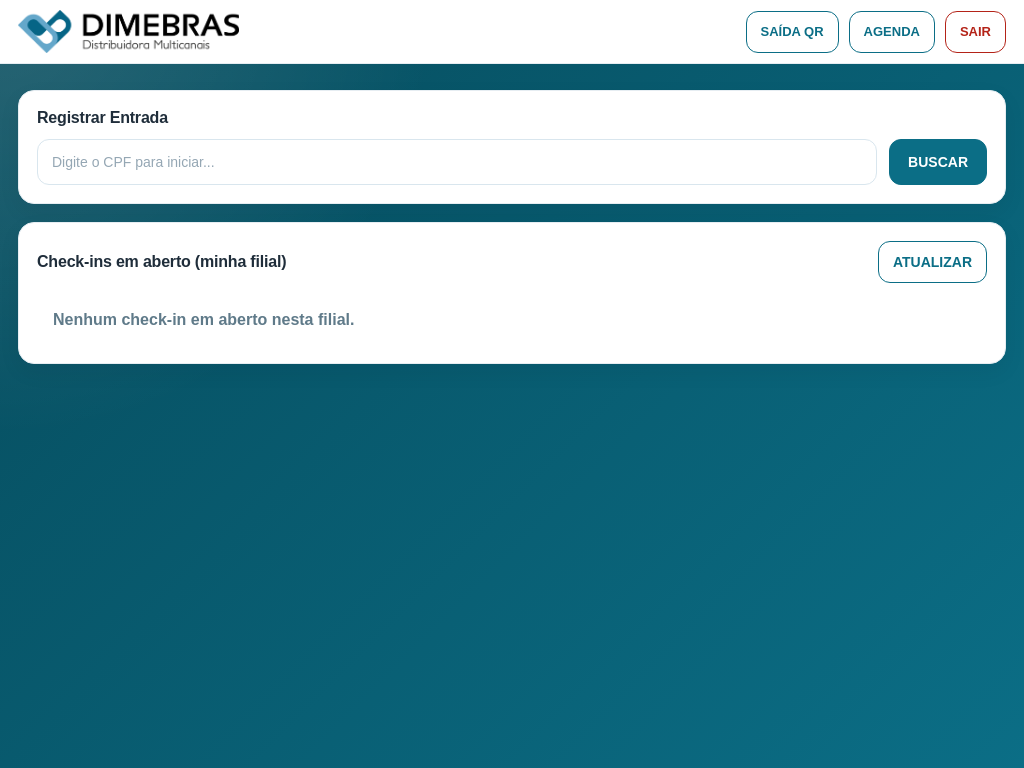
it: Checkin feedback › padroniza visitante não encontrado antes de seguir para cadastro
The width and height of the screenshot is (1024, 768).
Step 1. Type "52998224725" into the field with placeholder "Digite o CPF para iniciar..." → (457, 162), box [37,139,877,185]
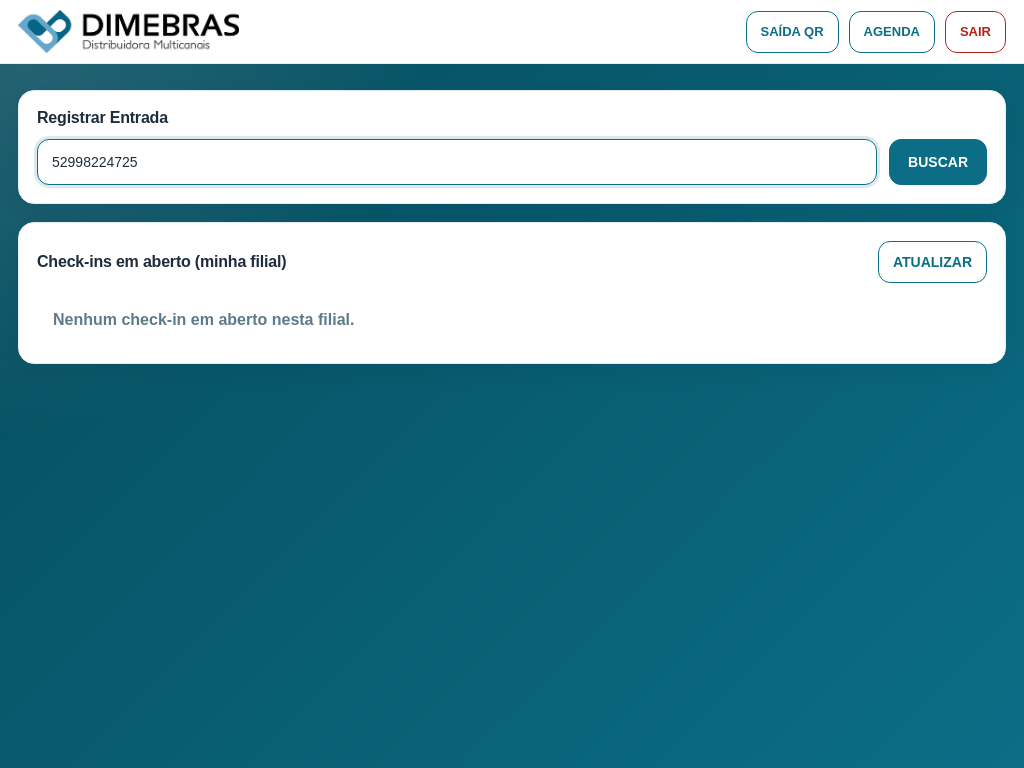
Step 2. Click the button "BUSCAR" → (938, 162), box [889,139,987,185]
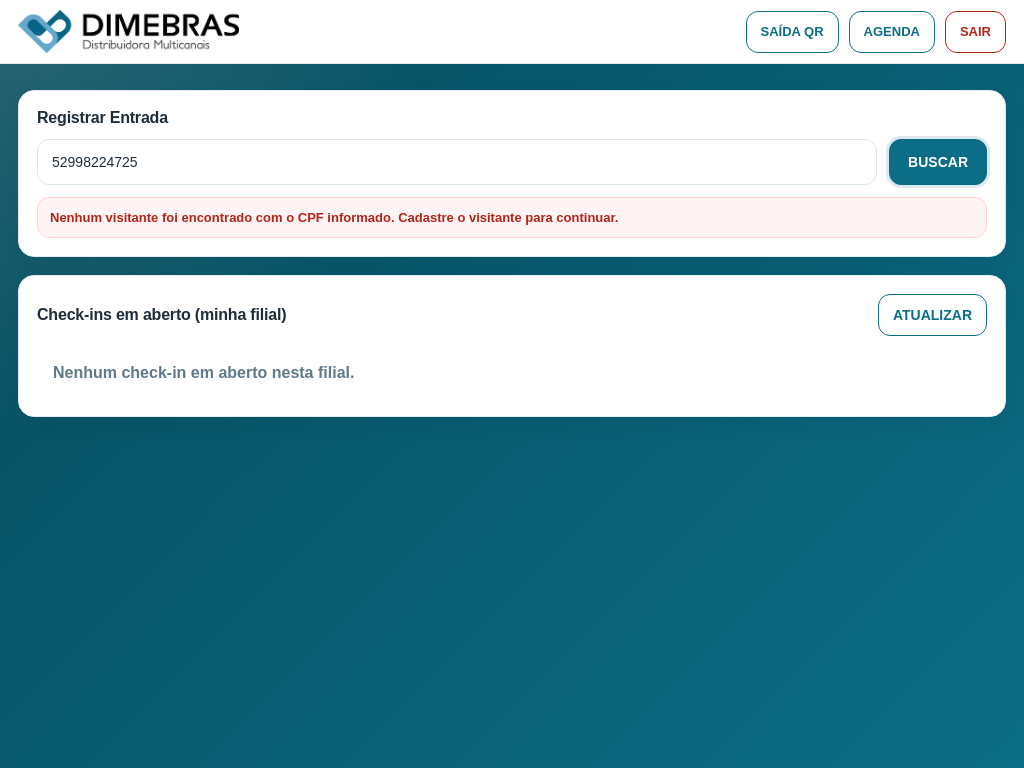
Check: the message shows "Nenhum visitante foi encontrado com o CPF informado. Cadastre o visitante para continuar.", box [50,210,618,225]
